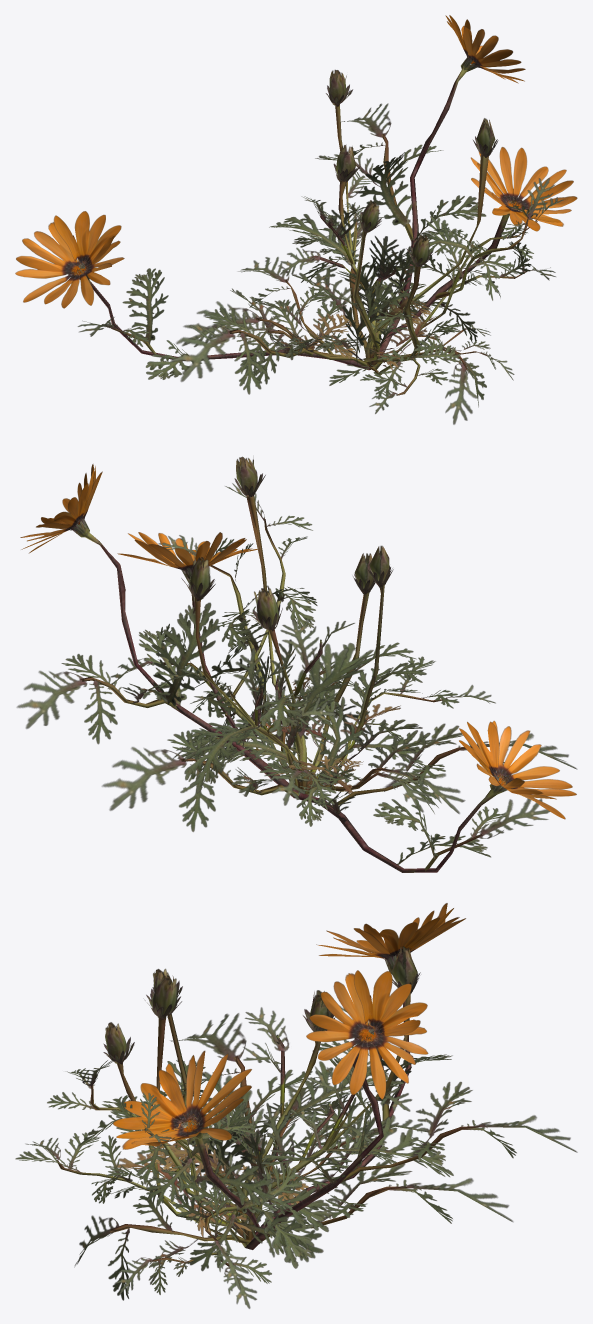
The model's file is ursinia.glb.
The picture shows the model from 3 angles, top to bottom: view 1: azimuth 30°, elevation 25°; view 2: azimuth 150°, elevation 25°; view 3: azimuth 270°, elevation 25°; orthographic projection. The views are drawn at different scales.
Visible parts, largest first — view 1: flower_ursinia_c_LOD0, flower_ursinia_d_LOD0, flower_ursinia_e_LOD0; view 2: flower_ursinia_c_LOD0, flower_ursinia_d_LOD0, flower_ursinia_e_LOD0; view 3: flower_ursinia_c_LOD0, flower_ursinia_d_LOD0, flower_ursinia_e_LOD0.
Boxes of the visible parts, x1=… form: flower_ursinia_c_LOD0: x1=15, y1=15, x2=577, y2=394; flower_ursinia_d_LOD0: x1=182, y1=69, x2=563, y2=373; flower_ursinia_e_LOD0: x1=210, y1=202, x2=514, y2=424; flower_ursinia_c_LOD0: x1=17, y1=464, x2=577, y2=872; flower_ursinia_d_LOD0: x1=102, y1=456, x2=465, y2=831; flower_ursinia_e_LOD0: x1=173, y1=656, x2=495, y2=826; flower_ursinia_c_LOD0: x1=47, y1=903, x2=577, y2=1249; flower_ursinia_d_LOD0: x1=111, y1=946, x2=513, y2=1289; flower_ursinia_e_LOD0: x1=15, y1=1060, x2=427, y2=1308.
Bounding box in the file's own units: 0.2609 × 0.1572 × 0.2104.
1 material, 1 textured.
